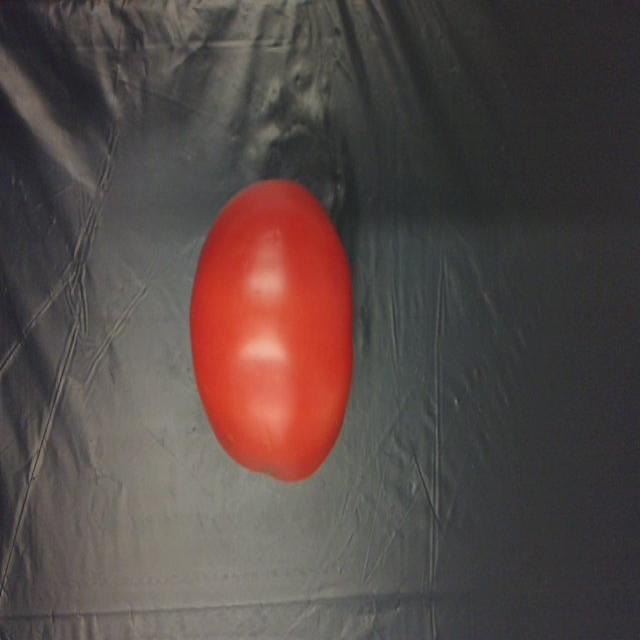kirmizi: (187, 168, 356, 482)
